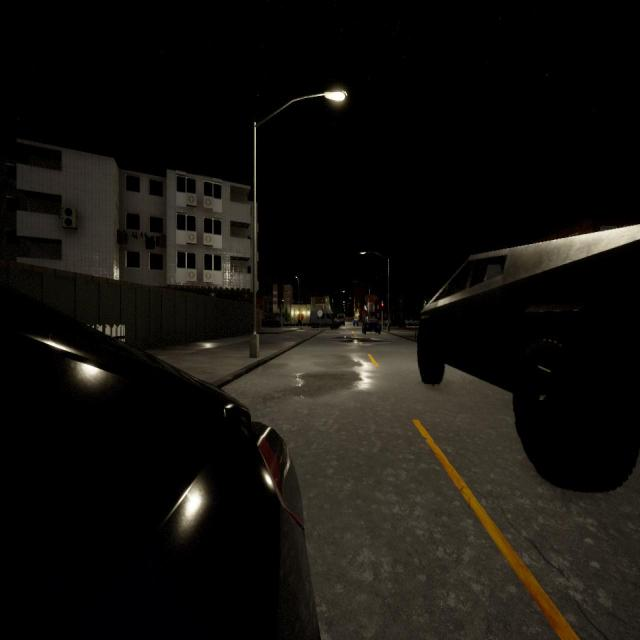Vehicle: (0, 258, 320, 636), (416, 222, 640, 492), (309, 310, 342, 329), (362, 318, 382, 334), (338, 314, 345, 326), (353, 319, 359, 326)
traffic_light: (381, 304, 384, 312)
